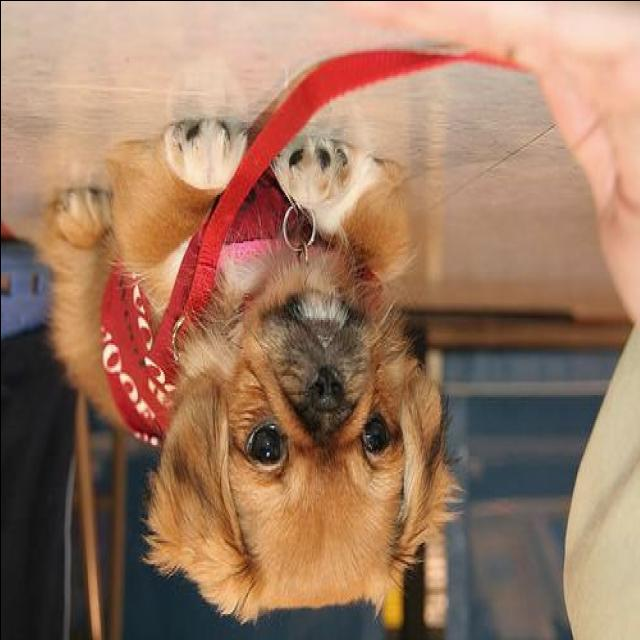pekinese: (42, 121, 453, 629)
